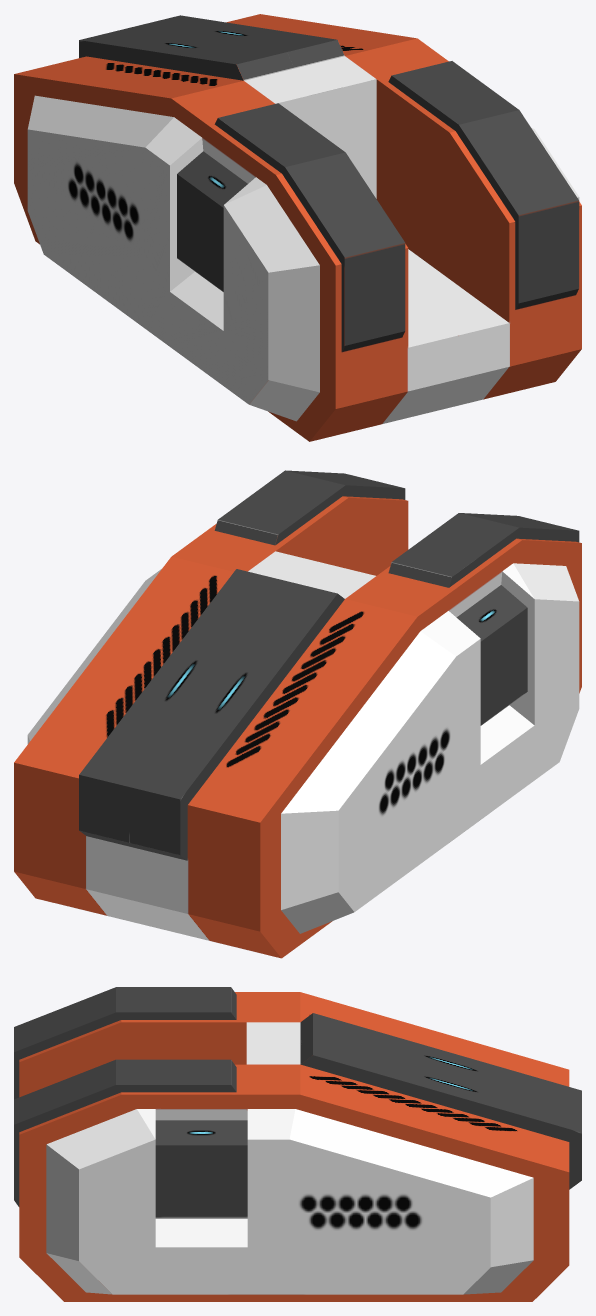
The model's file is Cannon base.fbx.
The picture shows the model from 3 angles, top to bottom: view 1: azimuth 30°, elevation 25°; view 2: azimuth 150°, elevation 25°; view 3: azimuth 270°, elevation 25°; orthographic projection. The views are drawn at different scales.
Parts seen in each view (by area): view 1: Cannon base; view 2: Cannon base; view 3: Cannon base.
Boxes of the visible parts, x1,y1,x2,y2 form: Cannon base: (14,14,581,441); Cannon base: (14,470,581,958); Cannon base: (14,987,581,1301).
Bounding box in the file's own units: 169 × 131 × 312.
Materials: 1 (1 with a texture image).
